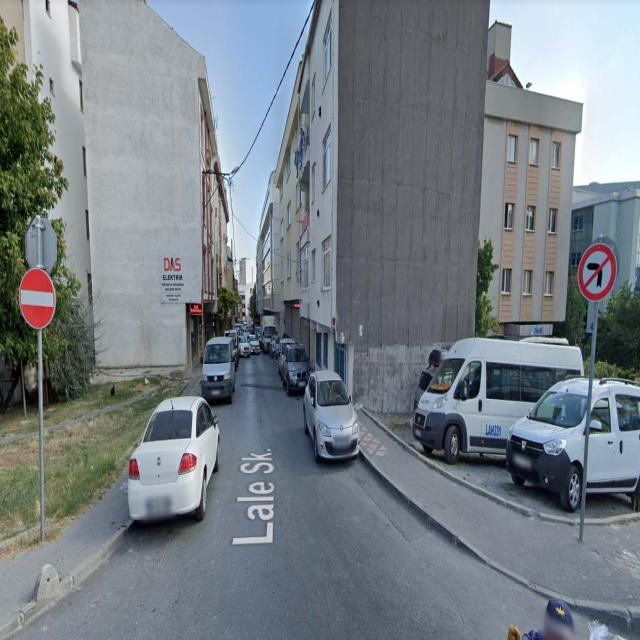girisyok: (18, 268, 56, 330)
soladonulmez: (578, 243, 618, 303)
